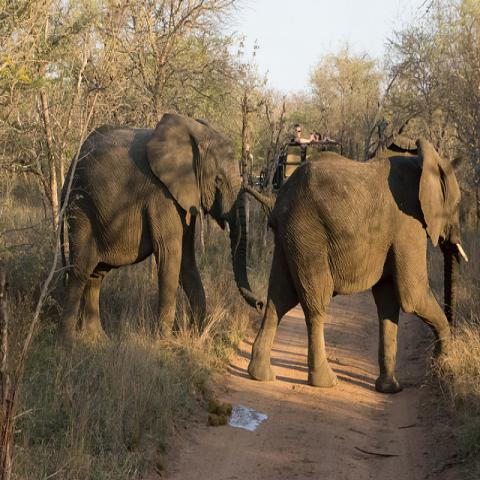truck: (271, 141, 343, 194)
